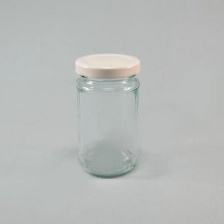bottle: (67, 46, 154, 189)
